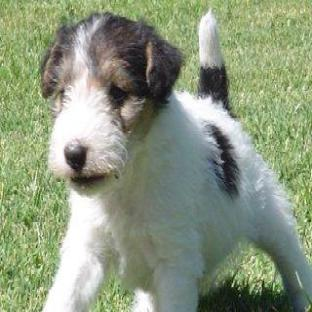Animal: (41, 12, 311, 311)
